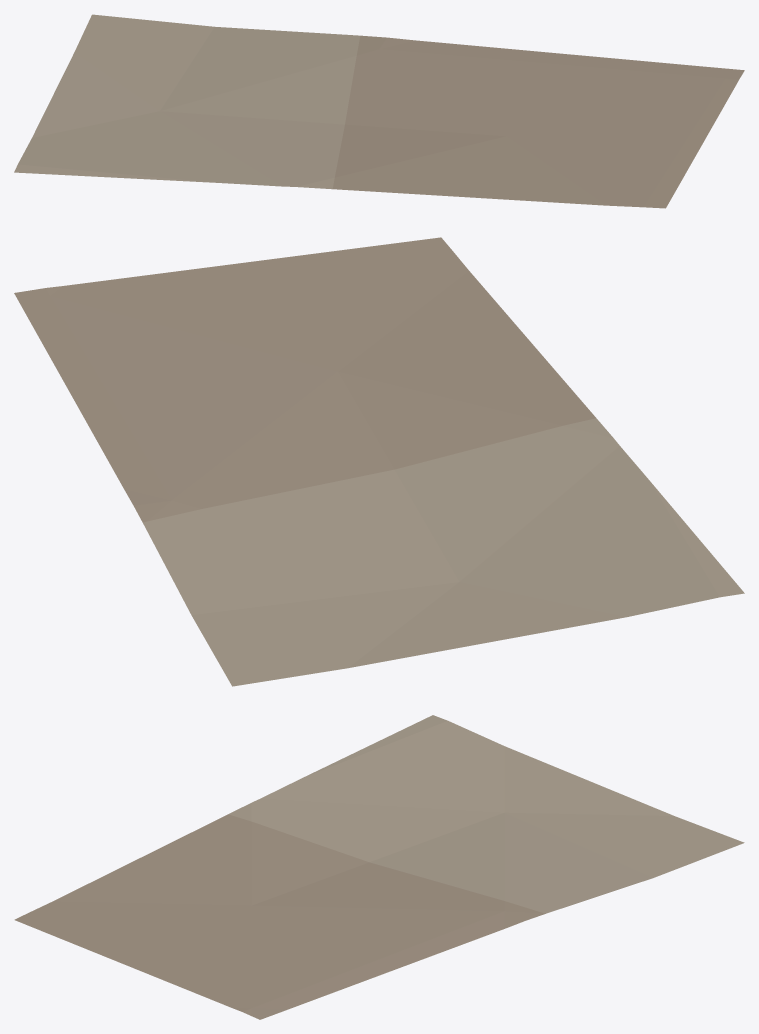
File: farm_-26_-24_soil.glb
3 views of the same model, one above another, from view 1: azimuth 30°, elevation 25°; view 2: azimuth 150°, elevation 25°; view 3: azimuth 270°, elevation 25° (orthographic). The views are drawn at different scales.
Visible parts, largest first — view 1: geometry_0; view 2: geometry_0; view 3: geometry_0.
Part boxes in pixels (x1,y1,x2,y2): geometry_0: (14, 14, 744, 208); geometry_0: (14, 237, 744, 686); geometry_0: (14, 715, 744, 1019).
Size of the model in its own units: 235 by 8.29 by 231.
